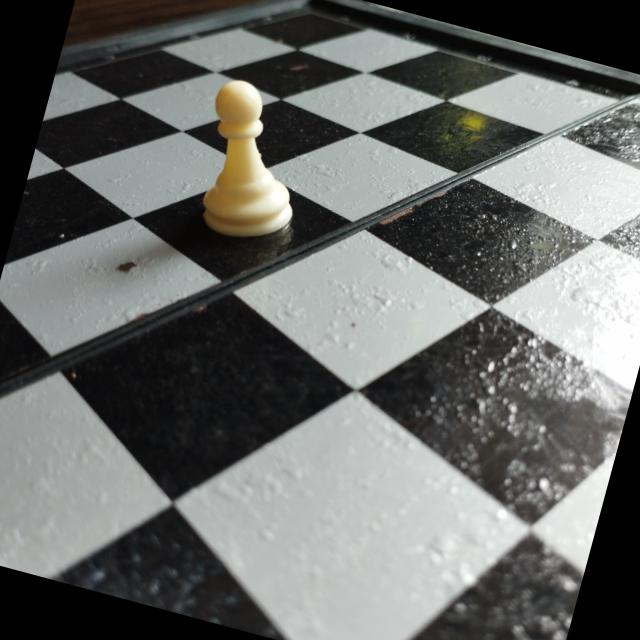White Pawn: (176, 68, 330, 256)
